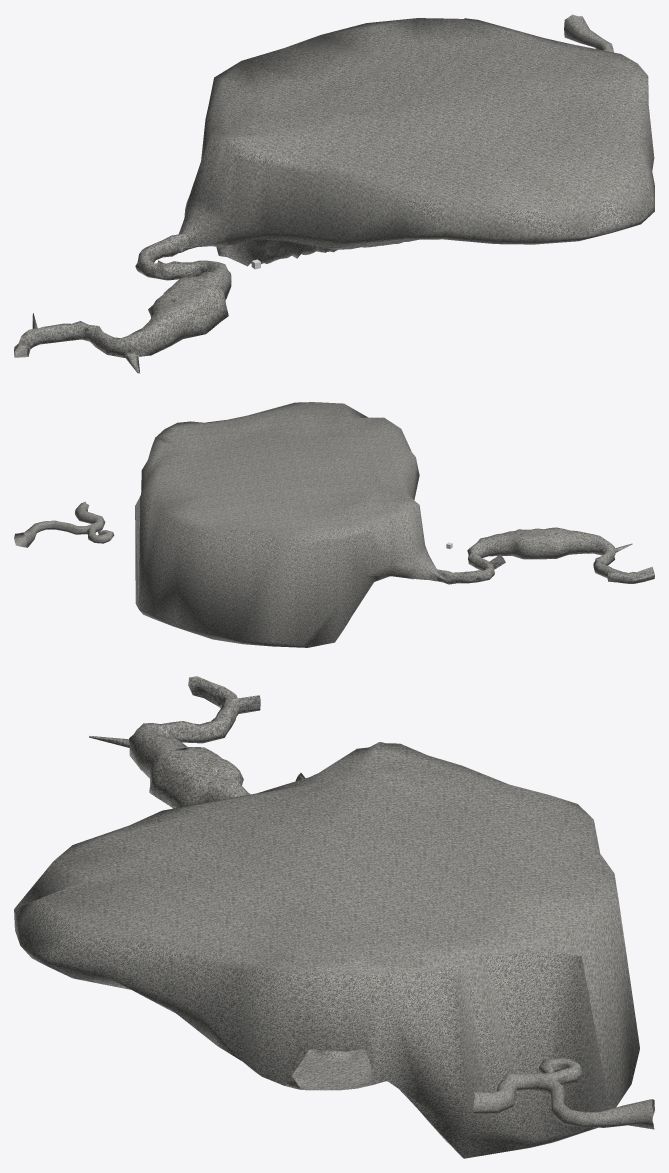
The model's file is Level_Geometry_UpdatedBits08.FBX.
3 views of the same model, one above another, from view 1: azimuth 30°, elevation 25°; view 2: azimuth 150°, elevation 25°; view 3: azimuth 270°, elevation 25° (orthographic). The views are drawn at different scales.
Parts seen in each view (by area): view 1: Big Cave Walls and Roof, Tunnel 01, Big cave floor second half, cave exit tunnel; view 2: Big Cave Walls and Roof, Tunnel 01, cave exit tunnel; view 3: Big Cave Walls and Roof, Tunnel 01, cave exit tunnel, Big cave floor first half.
Boxes of the visible parts, bbox=[...] form: Big Cave Walls and Roof: bbox=[179, 18, 654, 250]; Tunnel 01: bbox=[14, 233, 231, 373]; Big cave floor second half: bbox=[188, 239, 416, 266]; cave exit tunnel: bbox=[564, 14, 613, 52]; Big Cave Walls and Roof: bbox=[135, 402, 437, 647]; Tunnel 01: bbox=[436, 527, 654, 584]; cave exit tunnel: bbox=[14, 501, 114, 547]; Big Cave Walls and Roof: bbox=[14, 742, 639, 1158]; Tunnel 01: bbox=[89, 676, 305, 808]; cave exit tunnel: bbox=[473, 1058, 654, 1129]; Big cave floor first half: bbox=[244, 1048, 462, 1157].
Bounding box in the file's own units: 232706 × 56842 × 141169.
